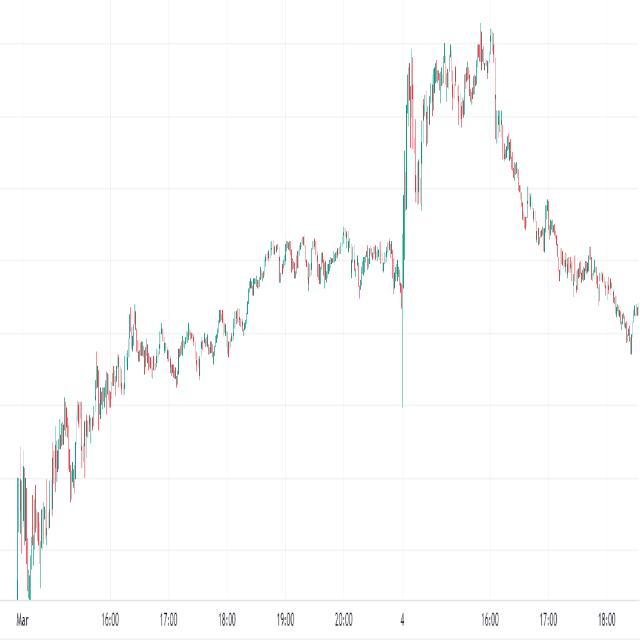Ascending-Triangle: (400, 20, 516, 257)
Rounding-Bottom: (132, 273, 251, 389)
rectangle: (261, 219, 402, 305)
